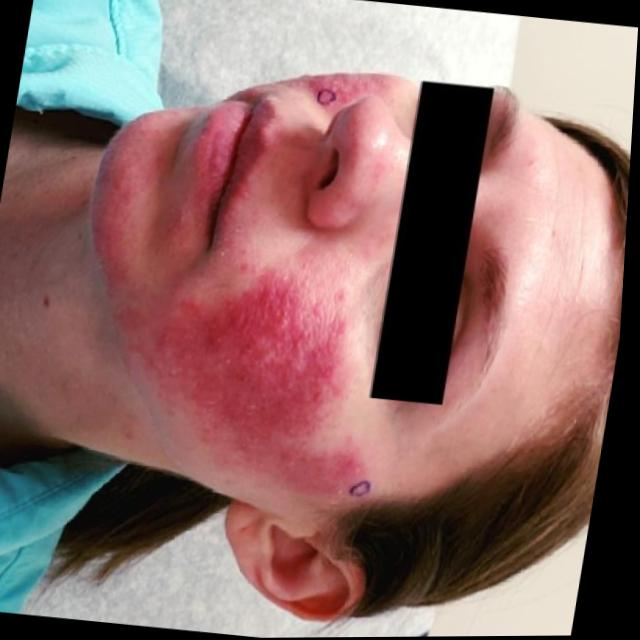Rosacea: (135, 247, 363, 492), (304, 51, 396, 122)
